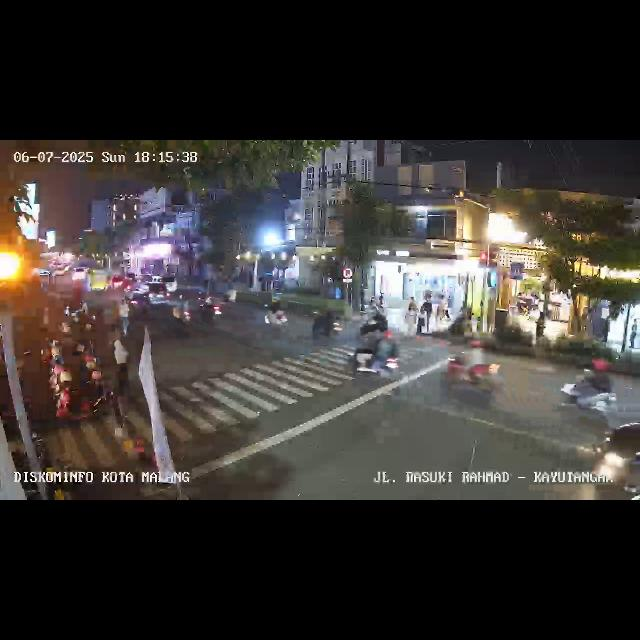car: (591, 414, 639, 500), (124, 280, 170, 308)
motorcycle: (442, 342, 504, 406), (556, 368, 620, 424), (348, 330, 402, 382), (310, 308, 342, 340), (196, 289, 220, 323), (172, 294, 194, 330), (264, 300, 288, 332), (222, 284, 238, 306)
person: (112, 334, 130, 388), (420, 296, 432, 334), (118, 303, 130, 337), (439, 294, 451, 326), (406, 295, 416, 327), (535, 310, 545, 340), (628, 320, 636, 348), (376, 290, 384, 308)
